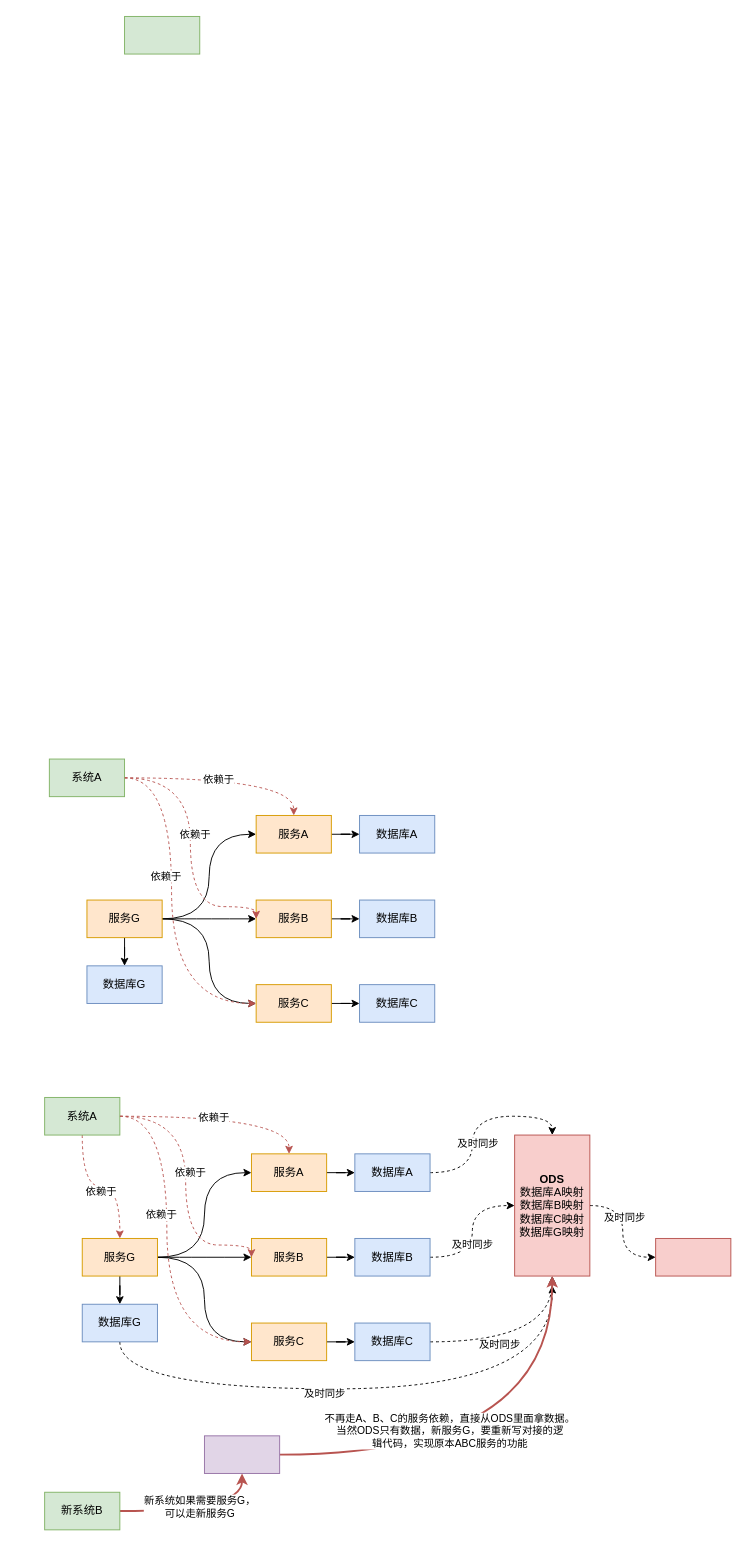
Some shapes in this 747 by 1546 pixel diagram are drawn without their labels. Here are the shapes that lost their labels. From the top down, the box of each, then its label:
(124, 16, 200, 54): 文本
(655, 1238, 731, 1276): HBase
(204, 1435, 280, 1473): 新服务G
